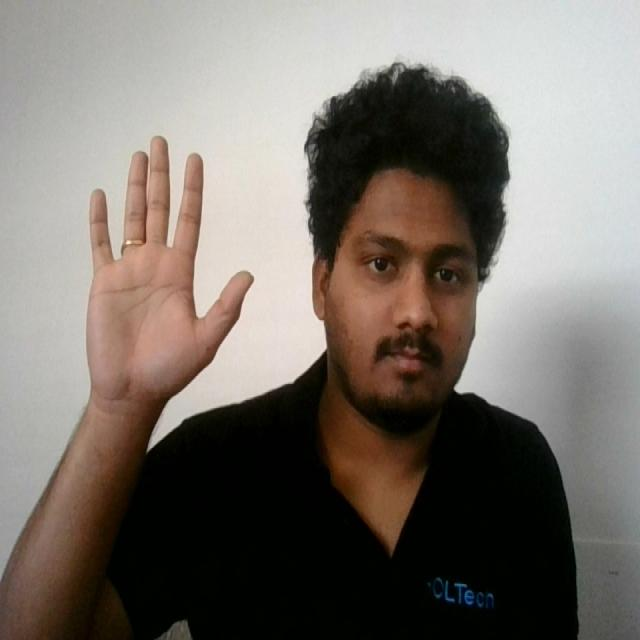Hello: (72, 124, 257, 428)
